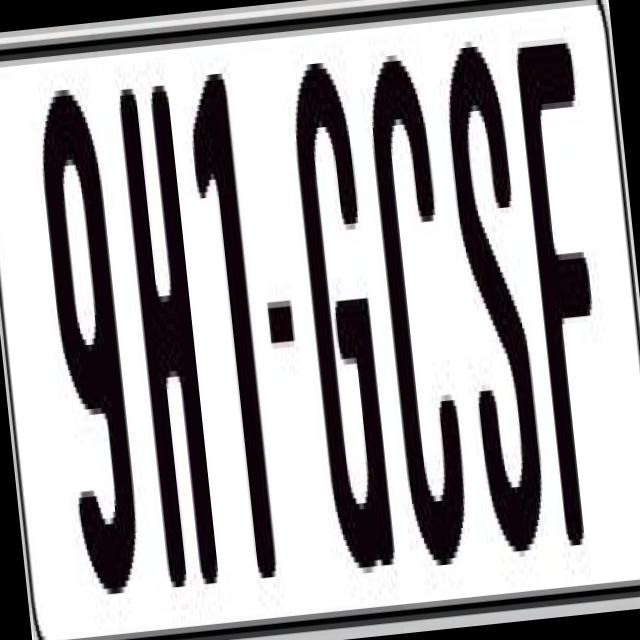1: (183, 56, 277, 586)
9: (30, 80, 149, 596)
C: (360, 52, 473, 585)
F: (514, 36, 627, 568)
G: (284, 48, 401, 587)
H: (116, 68, 220, 588)
S: (436, 44, 554, 588)
